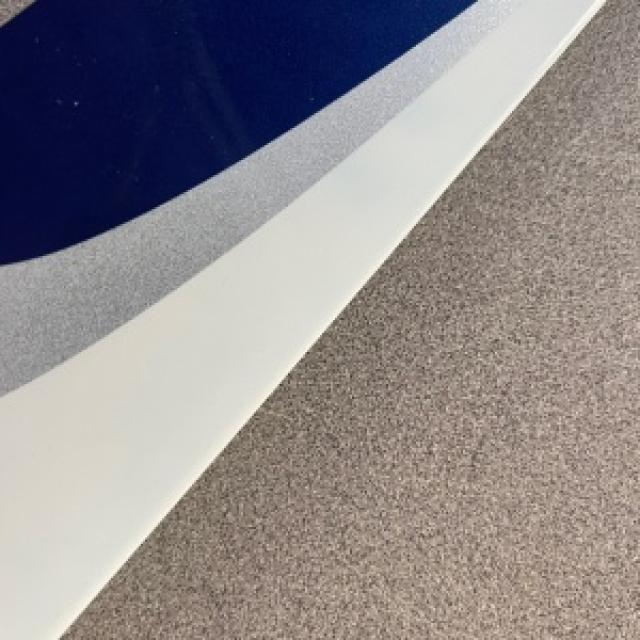healthy: (62, 0, 638, 638)
